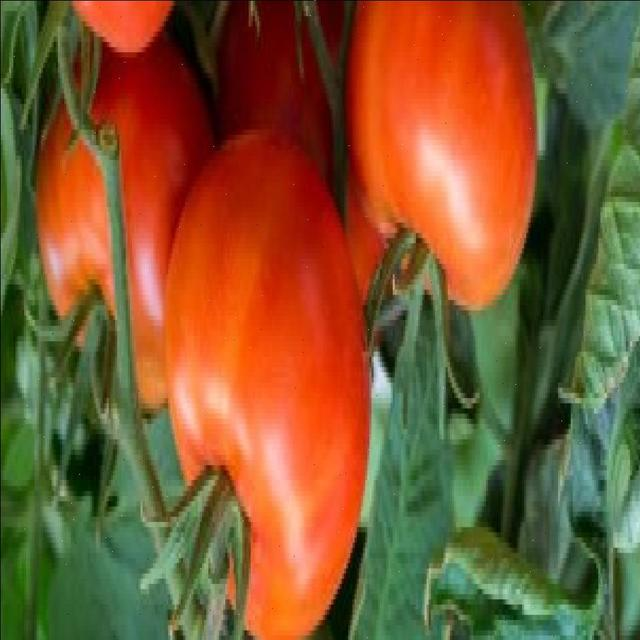Healthy Fruit: (89, 107, 295, 310)
